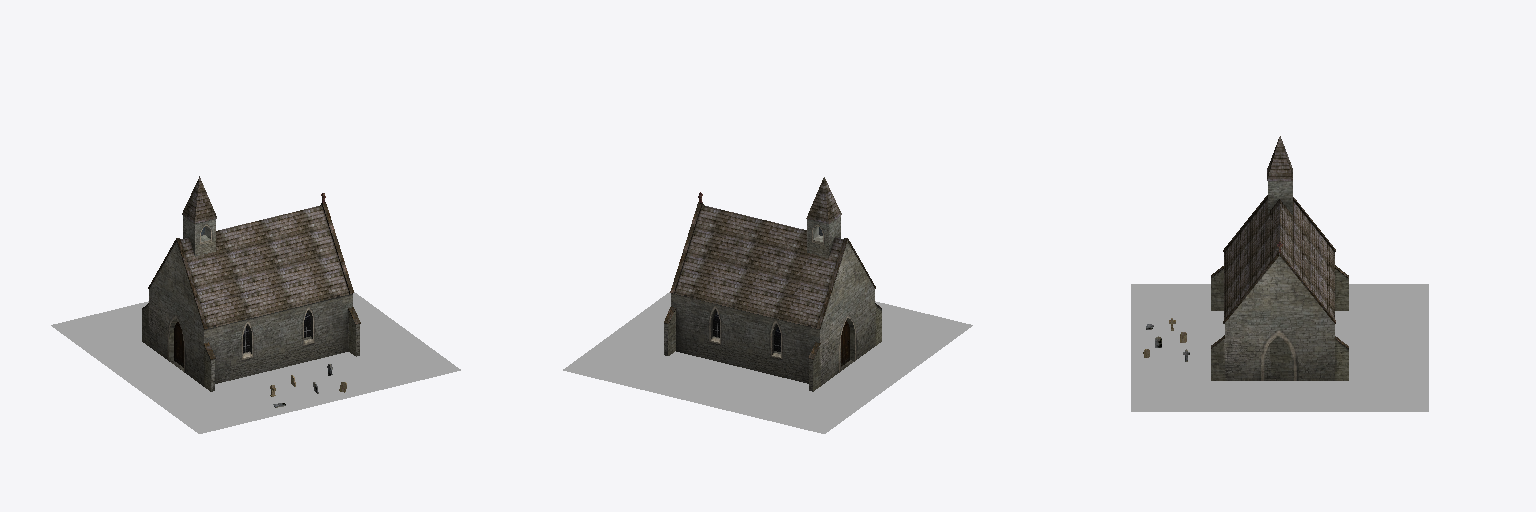
The picture shows the model from 3 angles: view 1: azimuth 30°, elevation 25°; view 2: azimuth 150°, elevation 25°; view 3: azimuth 270°, elevation 25°; orthographic projection.
Visible parts, largest first — view 1: Chapel, Ground; view 2: Chapel, Ground; view 3: Ground, Chapel.
Boxes of the visible parts, <box> form: Chapel: <box>142,176,360,391</box>; Ground: <box>51,292,460,433</box>; Chapel: <box>664,177,881,391</box>; Ground: <box>563,292,972,433</box>; Ground: <box>1131,284,1428,411</box>; Chapel: <box>1211,136,1348,380</box>.
Size of the model in its own units: 2015 by 1372 by 1984.
Materials: 2 (1 with a texture image).